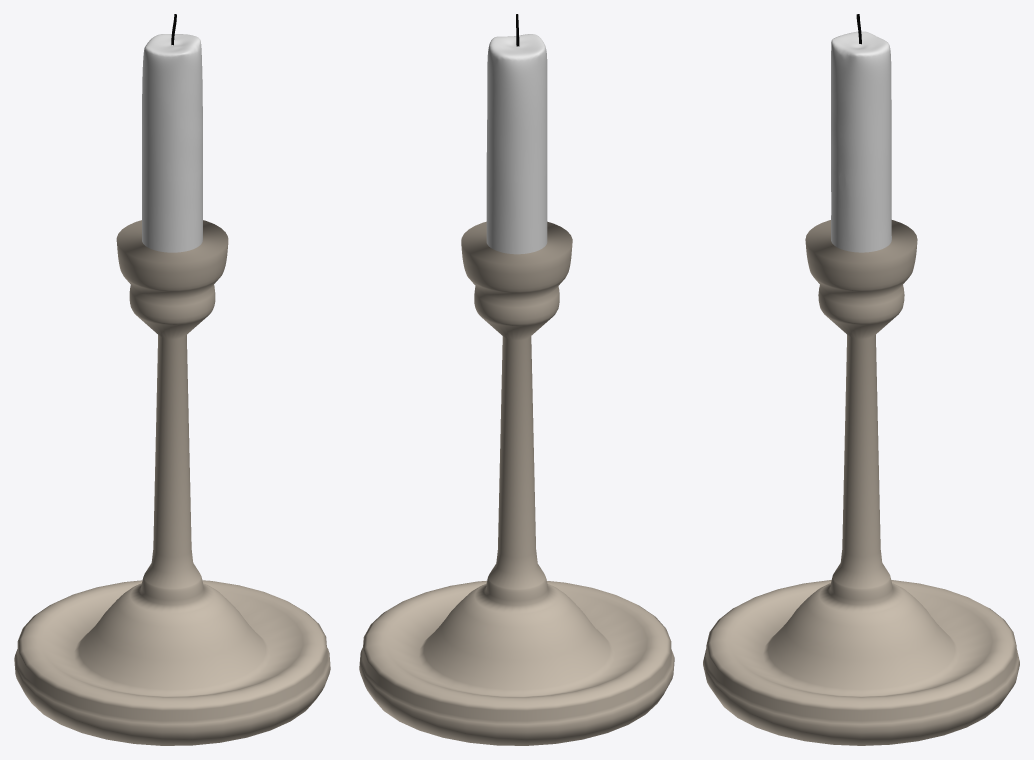
The model's file is Candle.fbx.
3 views of the same model, side by side, from view 1: azimuth 30°, elevation 25°; view 2: azimuth 150°, elevation 25°; view 3: azimuth 270°, elevation 25° (orthographic).
Visible parts, largest first — view 1: Cylinder, Cylinder.001; view 2: Cylinder, Cylinder.001; view 3: Cylinder, Cylinder.001.
Boxes of the visible parts, left/top/right/bottom form: Cylinder: left=14, top=220, right=330, bottom=745; Cylinder.001: left=142, top=34, right=202, bottom=252; Cylinder: left=359, top=221, right=674, bottom=745; Cylinder.001: left=486, top=34, right=547, bottom=254; Cylinder: left=703, top=220, right=1019, bottom=745; Cylinder.001: left=831, top=31, right=891, bottom=252.
Size of the model in its own units: 35.3 by 82.33 by 35.3.
